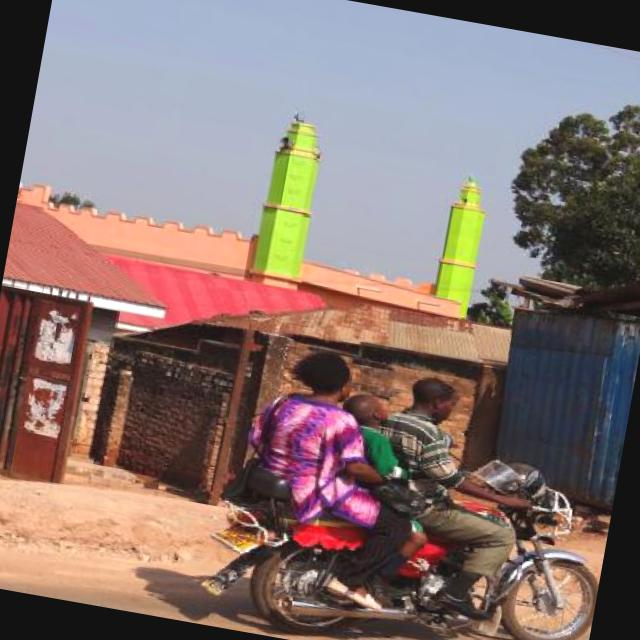Person: (222, 338, 439, 614), (347, 368, 554, 626), (308, 388, 450, 610)
